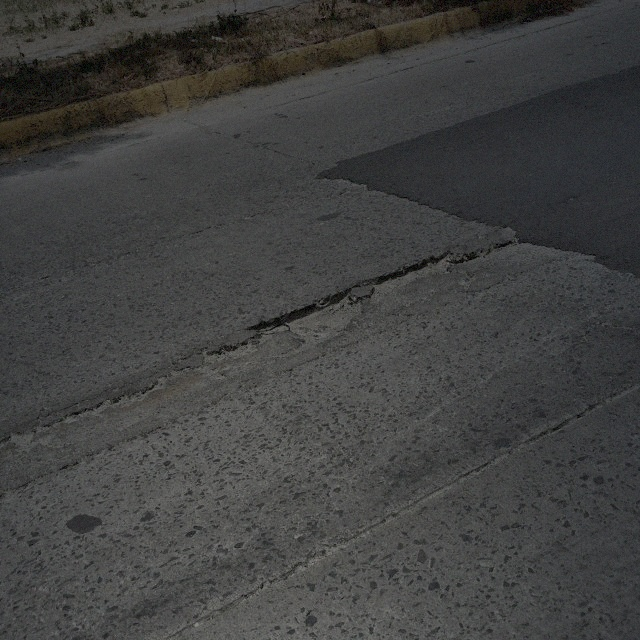pothole: (252, 280, 362, 376), (282, 284, 360, 350), (374, 249, 454, 306)
